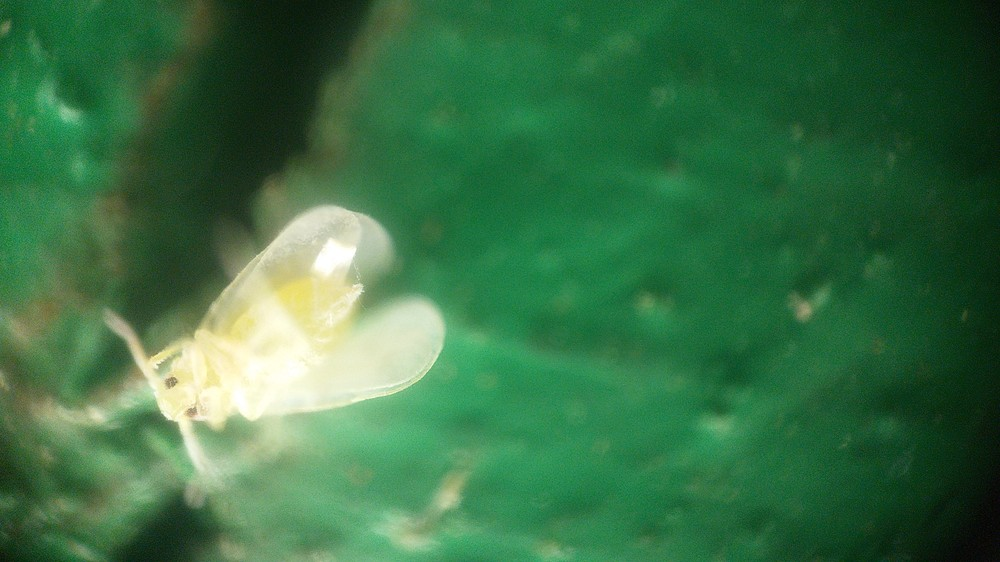Mosca Blanca: (99, 195, 460, 492)
